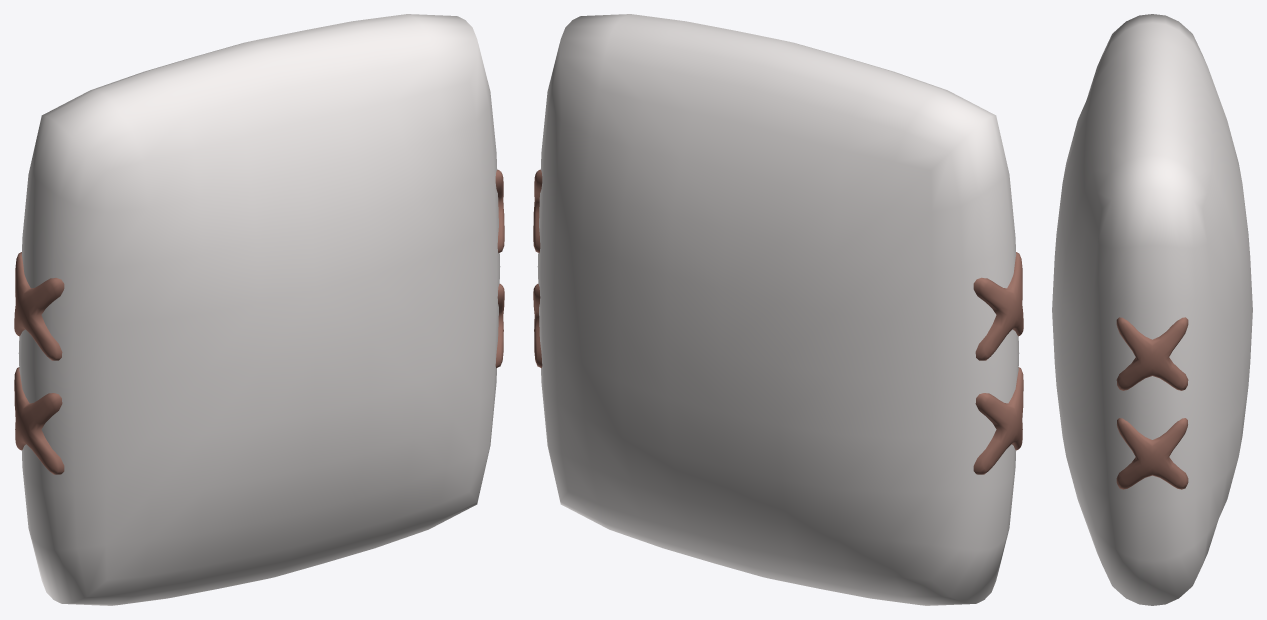
The model's file is Farm_4_Bag_1.glb.
The picture shows the model from 3 angles, left to right: view 1: azimuth 30°, elevation 25°; view 2: azimuth 150°, elevation 25°; view 3: azimuth 270°, elevation 25°; orthographic projection. The views are drawn at different scales.
Parts seen in each view (by area): view 1: Farm_4_Bag_1; view 2: Farm_4_Bag_1; view 3: Farm_4_Bag_1.
Part boxes in pixels (box(x1,y1,x2,y2)): Farm_4_Bag_1: box(14, 14, 504, 605); Farm_4_Bag_1: box(533, 14, 1023, 605); Farm_4_Bag_1: box(1052, 14, 1252, 605).
Bounding box in the file's own units: 1.82 × 1.94 × 0.7651.
Materials: 1 (1 with a texture image).
